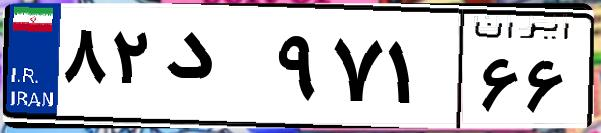1: (385, 28, 445, 110)
2: (110, 28, 158, 98)
6: (475, 38, 525, 113), (525, 38, 570, 115)
7: (330, 28, 385, 110)
8: (57, 26, 110, 100)
9: (270, 28, 330, 110)
د: (158, 20, 270, 120)
